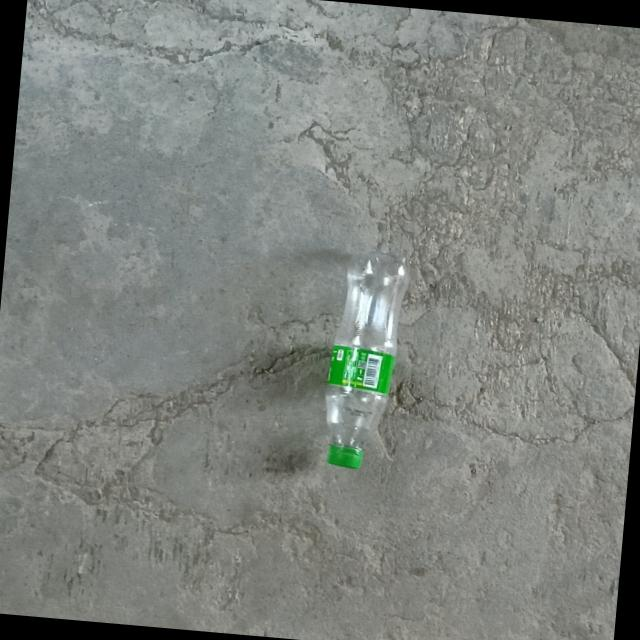Bottle: (324, 249, 408, 469)
